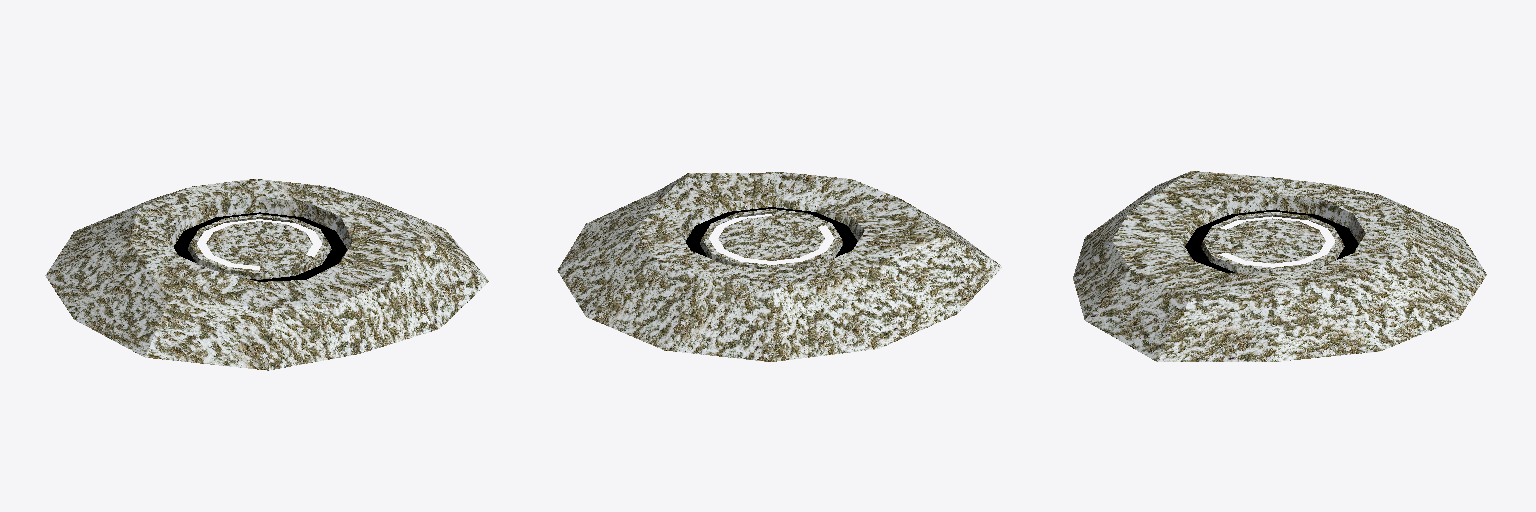
3 renders of one model, left to right at view 1: azimuth 30°, elevation 25°; view 2: azimuth 150°, elevation 25°; view 3: azimuth 270°, elevation 25°, orthographic.
Parts seen in each view (by area): view 1: Scene, Moat; view 2: Scene, Moat; view 3: Scene, Moat.
Part boxes in pixels (left/top/right/bottom): Scene: left=45, top=179, right=488, bottom=370; Moat: left=174, top=212, right=346, bottom=281; Scene: left=557, top=172, right=1001, bottom=361; Moat: left=686, top=207, right=857, bottom=257; Scene: left=1073, top=171, right=1486, bottom=361; Moat: left=1185, top=210, right=1358, bottom=272.
Bounding box in the file's own units: 40.44 × 4.71 × 39.07.
2 materials, 1 textured.